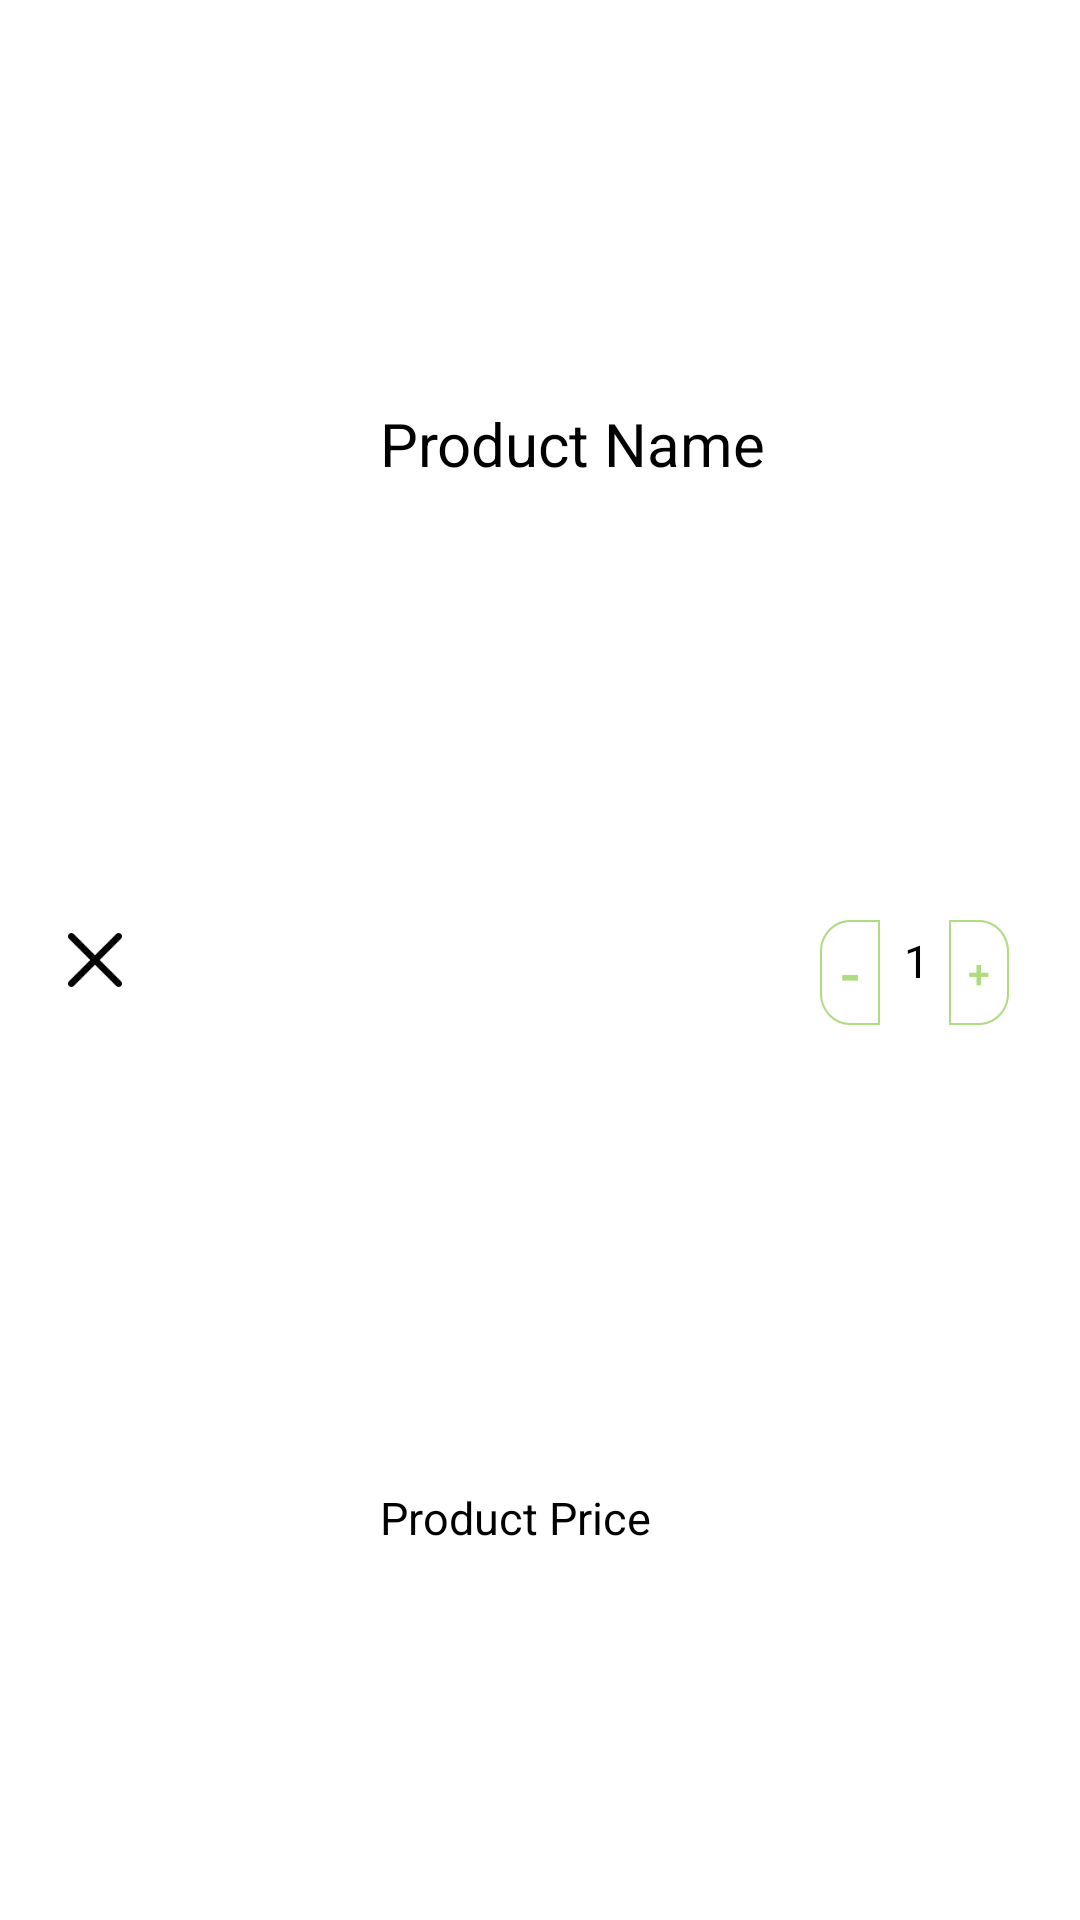

Named icons in this screenshot (1080x1920) and their centers, point (x, y):
delete: point (95, 960)
